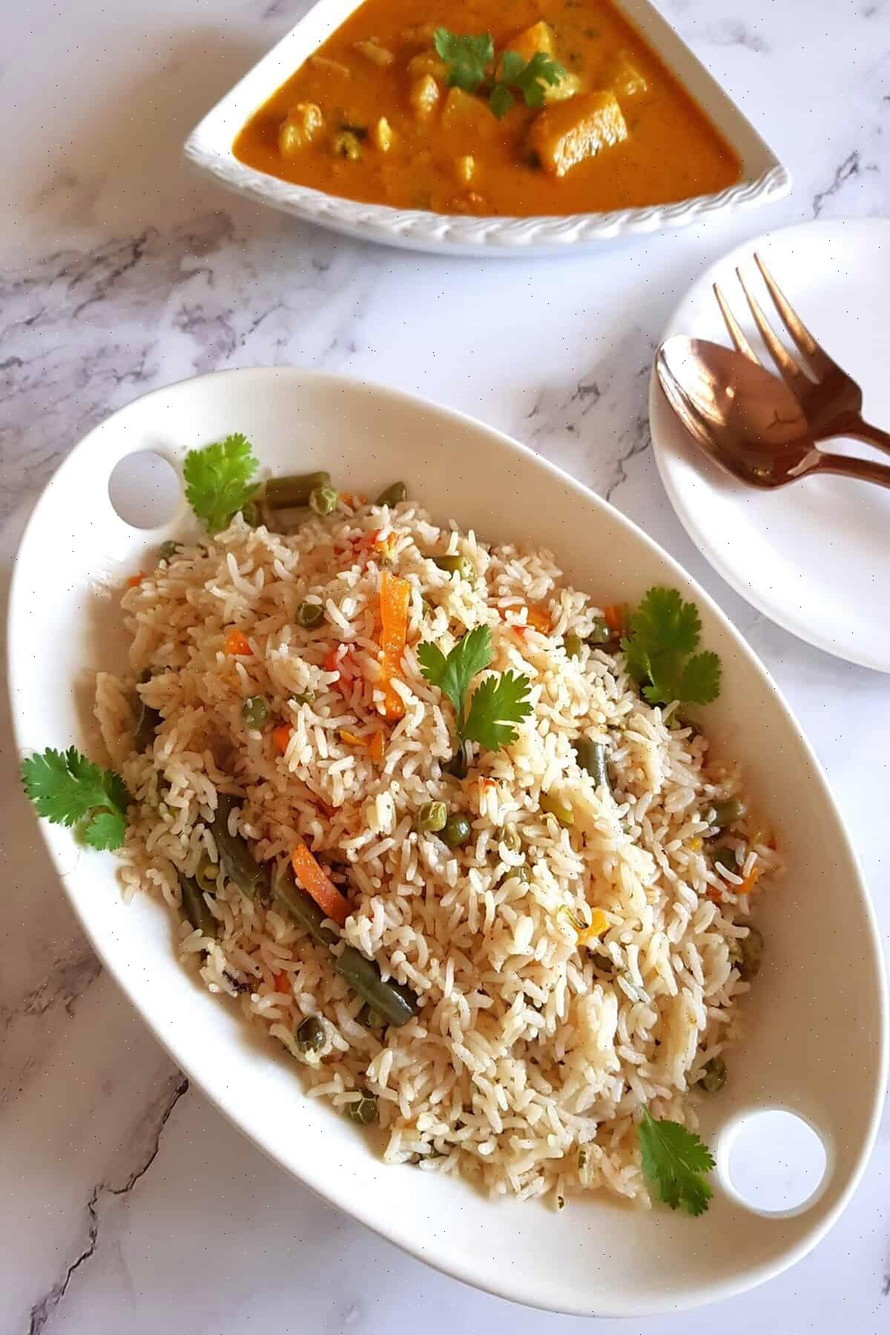veg-pulao: (79, 483, 755, 1177)
